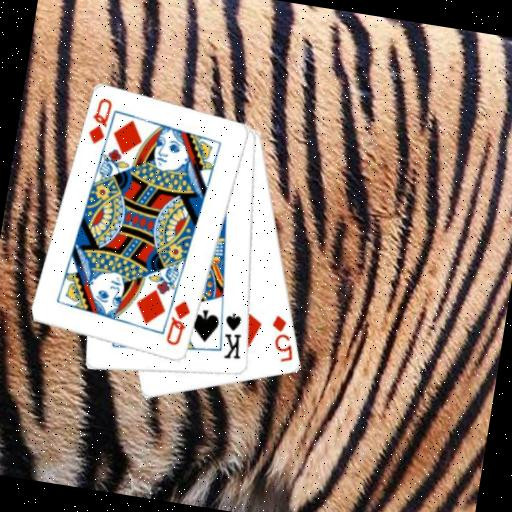5D: (264, 311, 301, 365)
KS: (216, 309, 249, 363)
QD: (162, 295, 194, 349), (83, 93, 115, 147)
